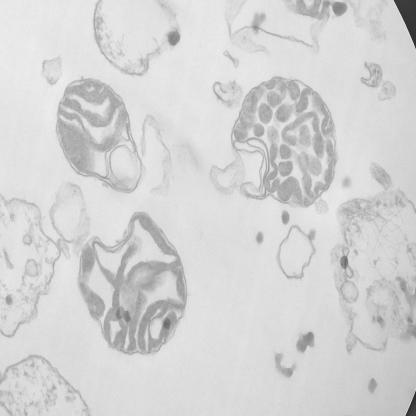mitochondria: (73, 210, 189, 357), (233, 78, 334, 204), (49, 72, 144, 197)
